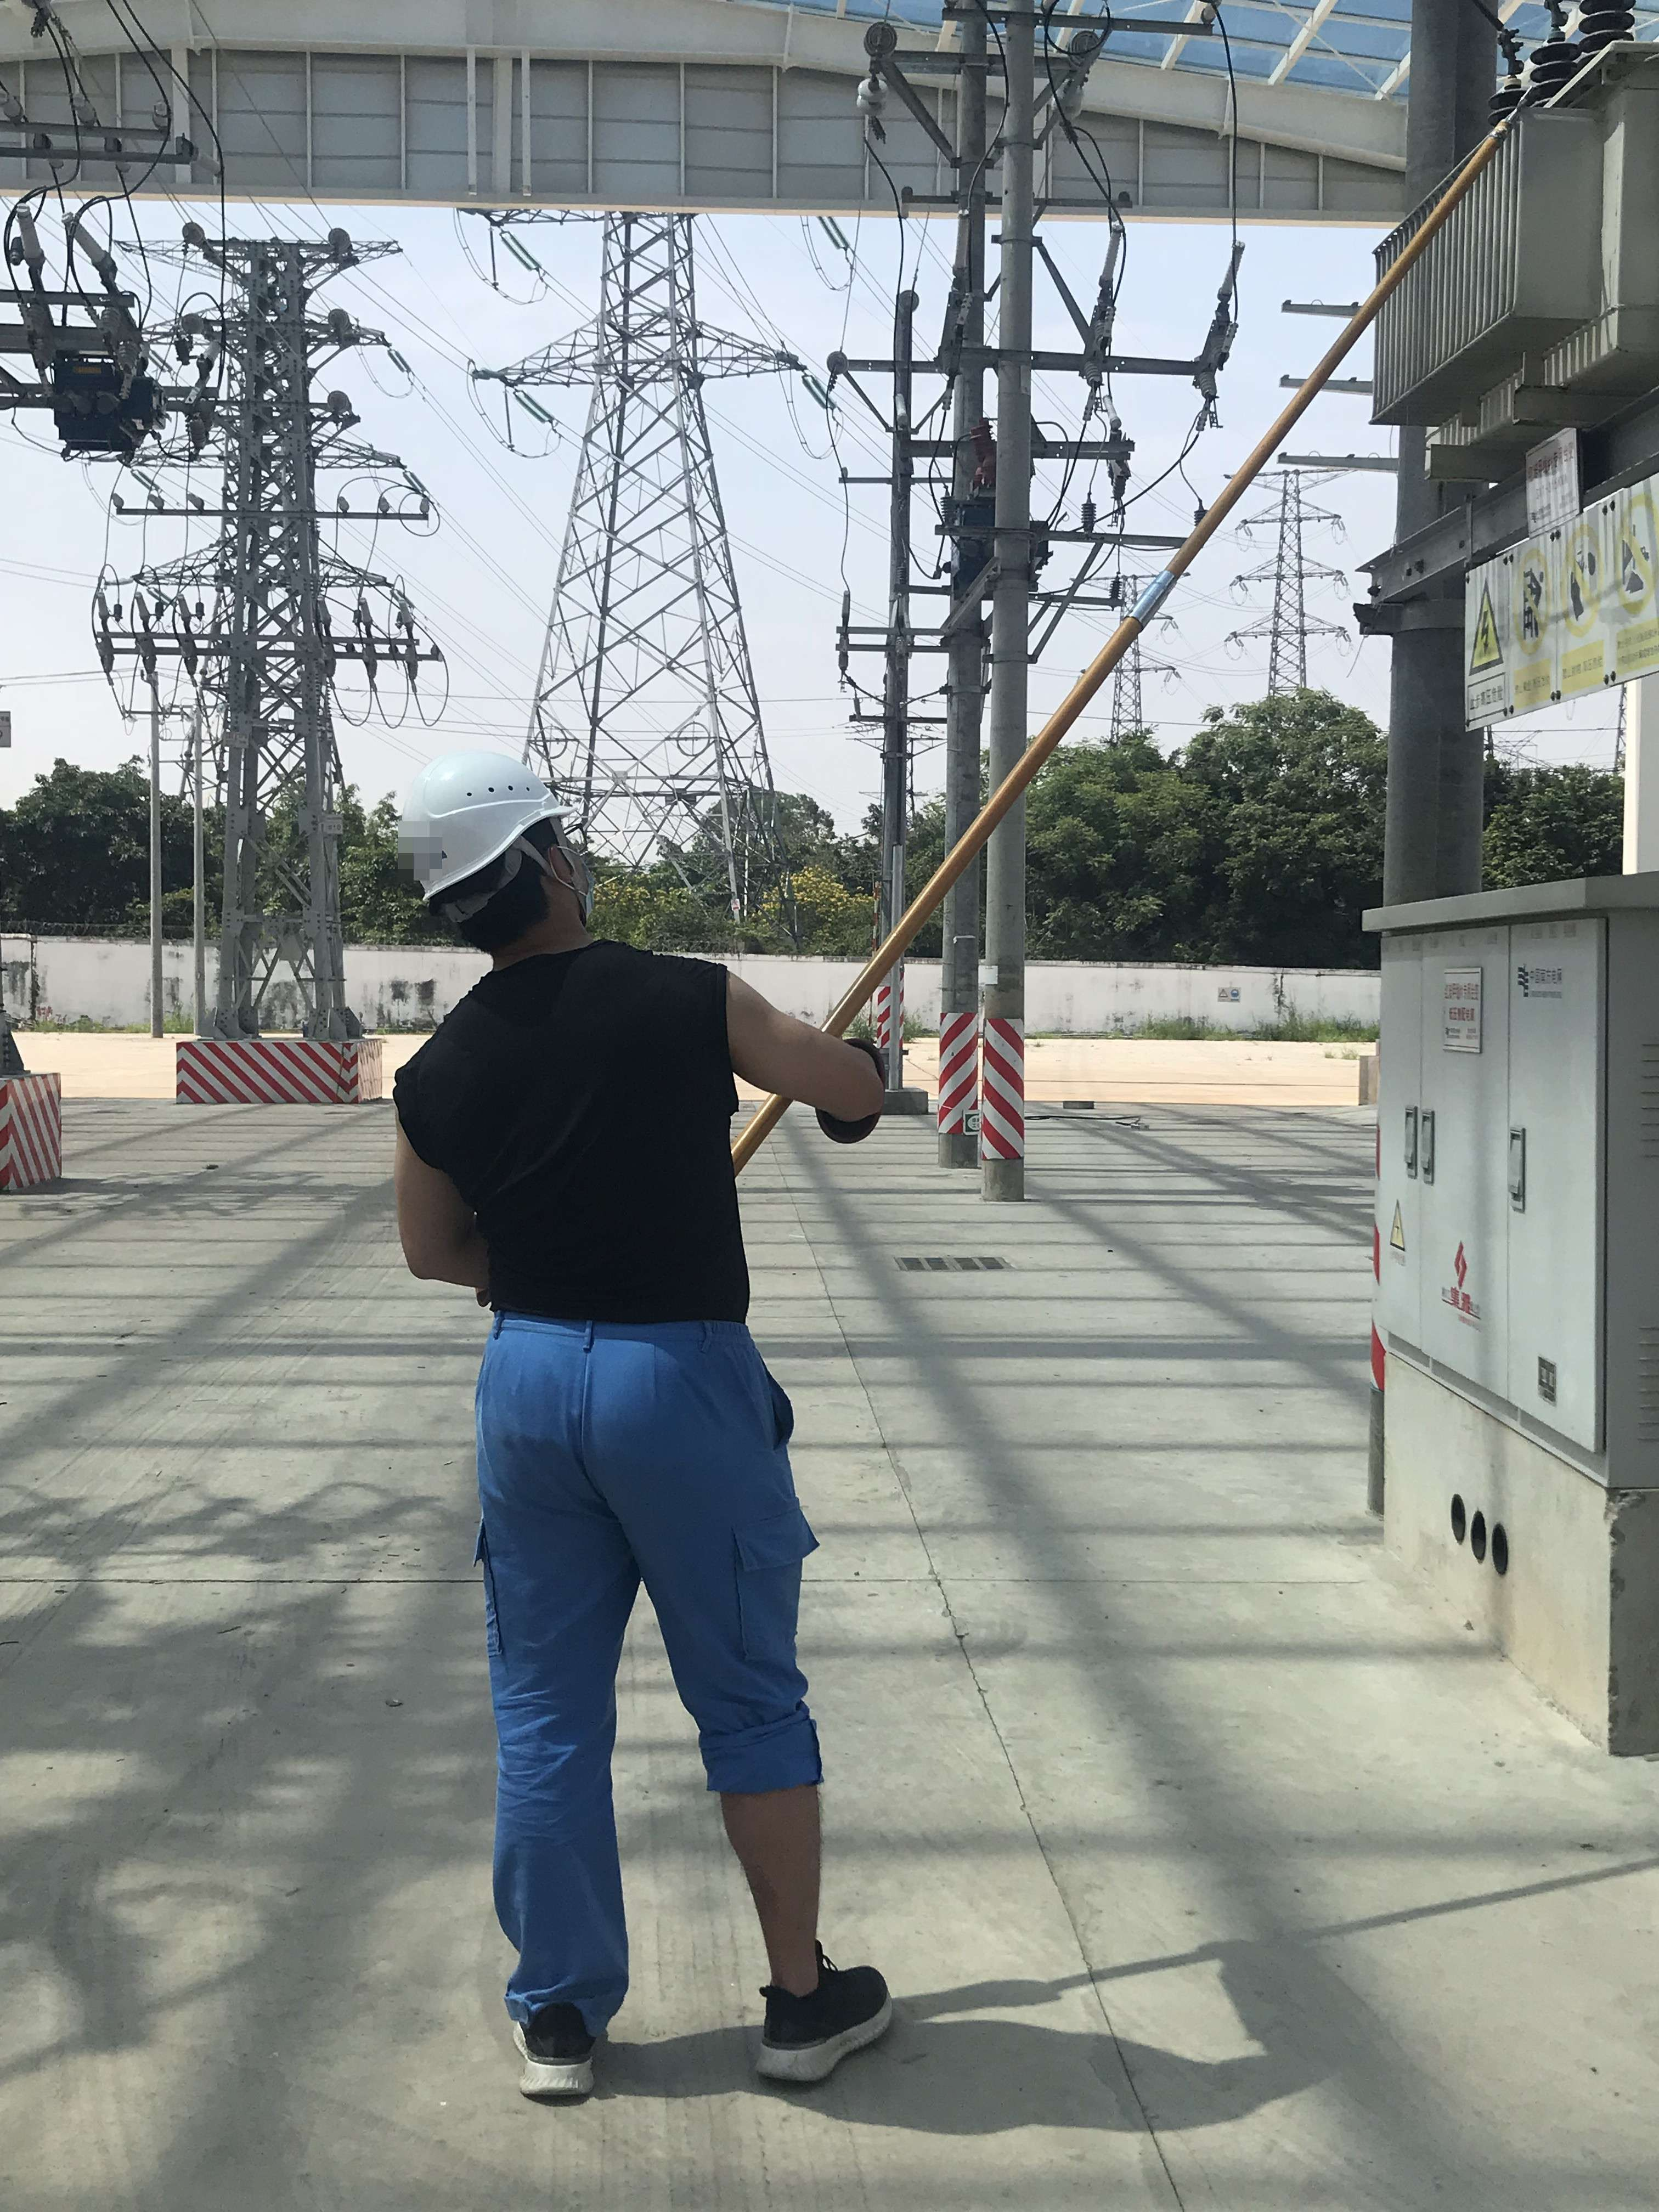downsuit: (455, 1327, 859, 2020)
upsuit: (390, 932, 779, 1331)
wrongbottom: (706, 1747, 852, 2012)
